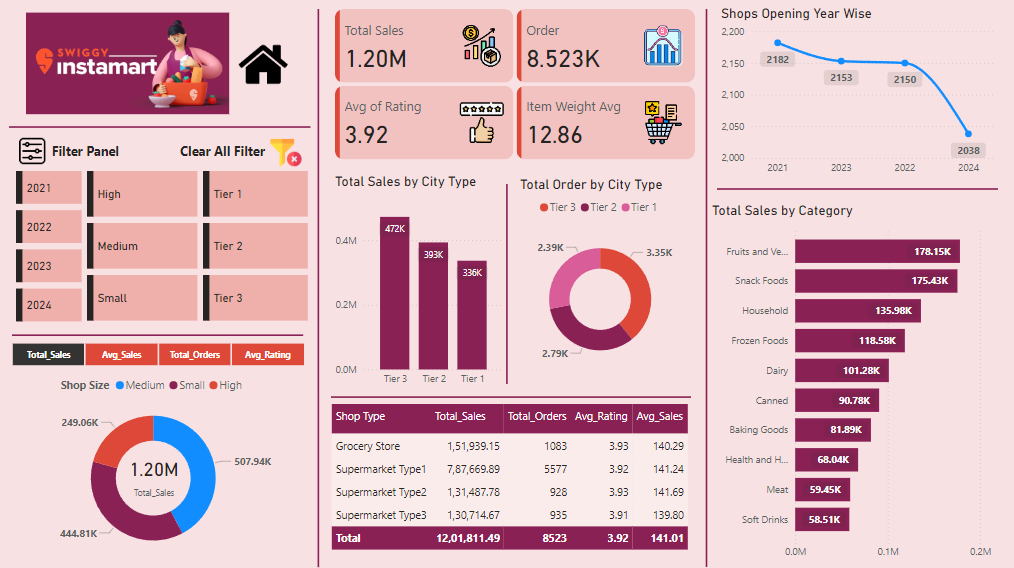

This screenshot's page, from the dashboard's own definition file:
{"tool":"powerbi","page":{"name":"INSTAMART DASHBOARD","canvas":[1280,720],"ordinal":0},"visuals":[{"type":"cardVisual","fields":{"Data":["Sum(Grocery Shop.Sales)","CountNonNull(Grocery Shop.Item Code)","Avg(Grocery Shop.Rating)","Avg(Grocery Shop.Item Weight)"]},"box":[418.6,7,460.5,198.8],"z":1000},{"type":"shape","box":[16.3,144.2,376.7,32.6],"z":3000},{"type":"clusteredColumnChart","title":"Total Sales by City Type","fields":{"Category":["Grocery Shop.Shop City Type"],"Y":["Sum(Grocery Shop.Sales)"]},"box":[418.6,217.4,220.9,275.6],"z":4000},{"type":"donutChart","title":"Sales by City Type","fields":{"Y":["Grocery Shop.Total_Sales"],"Category":["Grocery Shop.Shop Size"]},"box":[8.1,462.8,375.6,244.2],"z":5000},{"type":"advancedSlicerVisual","fields":{"Values":["Grocery Shop.Shop Size"]},"box":[114,215.1,138.4,188.4],"z":6000},{"type":"advancedSlicerVisual","fields":{"Values":["Grocery Shop.Shop Opening Year"]},"box":[24.4,215.1,82.6,188.4],"z":7000},{"type":"lineChart","title":"Shops Opening Year Wise","fields":{"Category":["Grocery Shop.Shop Opening Year"],"Y":["CountNonNull(Grocery Shop.Shop Opening Year)"]},"box":[901.1,7.8,351.1,221.1],"z":8000},{"type":"image","box":[297.5,46.2,73.8,71.2],"z":9000},{"type":"shape","box":[19.8,389.5,364,60.5],"z":10000},{"type":"slicer","fields":{"Values":["Metrics.Metrics"]},"box":[0,429.1,403.5,31.4],"z":11000},{"type":"cardVisual","fields":{"Data":["Grocery Shop.Total_Sales"]},"box":[124.4,557,145.3,82.6],"z":12000},{"type":"shape","box":[629.1,231.4,19.8,250],"z":13000},{"type":"shape","box":[418.6,482.6,450,30.2],"z":14000},{"type":"donutChart","title":"Total Order by City Type","fields":{"Y":["Grocery Shop.Total_Orders"],"Category":["Grocery Shop.Shop City Type"]},"box":[650,220.9,210.5,260.5],"z":15000},{"type":"clusteredBarChart","title":"Total Sales by Category","fields":{"Category":["Grocery Shop.Category"],"Y":["Sum(Grocery Shop.Sales)"]},"box":[889.5,253.5,382.6,455.8],"z":16000},{"type":"tableEx","fields":{"Values":["Grocery Shop.Shop Type","Grocery Shop.Total_Sales","Grocery Shop.Total_Orders","Grocery Shop.Avg_Rating","Grocery Shop.Avg_Sales"]},"box":[414,501.2,457,211.6],"z":17000},{"type":"advancedSlicerVisual","fields":{"Values":["Grocery Shop.Shop City Type"]},"box":[258.1,215.1,131.4,188.4],"z":18000},{"type":"textbox","box":[24.4,173.3,189.5,32.6],"z":19000},{"type":"image","box":[23.3,167.4,43,44.2],"z":20000},{"type":"textbox","box":[225.6,173.3,124.4,32.6],"z":21000},{"type":"image","box":[334.9,167.4,54.7,48.8],"z":22000},{"type":"shape","box":[901.2,221.2,351.2,32.5],"z":23000},{"type":"shape","box":[393,12.8,20.9,697.7],"z":24000},{"type":"shape","box":[877.5,12.5,21.2,697.5],"z":25000},{"type":"image","box":[8,16,296,128],"z":25001}]}

Visuals, with their boxes in screenshot pixels (x1, y1, x2, y2), scaled from the page's 1280x720 canvas onto the 1014x568 screenshot:
cardVisual - Sum(Grocery Shop.Sales) x CountNonNull(Grocery Shop.Item Code): (332, 6, 696, 162)
shape: (13, 114, 311, 139)
"Total Sales by City Type" clusteredColumnChart: (332, 172, 507, 389)
"Sales by City Type" donutChart: (6, 365, 304, 558)
advancedSlicerVisual - Grocery Shop.Shop Size: (90, 170, 200, 318)
advancedSlicerVisual - Grocery Shop.Shop Opening Year: (19, 170, 85, 318)
"Shops Opening Year Wise" lineChart: (714, 6, 992, 181)
image: (236, 36, 294, 93)
shape: (16, 307, 304, 355)
slicer - Metrics.Metrics: (0, 339, 320, 363)
cardVisual - Grocery Shop.Total_Sales: (99, 439, 214, 505)
shape: (498, 183, 514, 380)
shape: (332, 381, 688, 405)
"Total Order by City Type" donutChart: (515, 174, 682, 380)
"Total Sales by Category" clusteredBarChart: (705, 200, 1008, 560)
tableEx - Grocery Shop.Shop Type x Grocery Shop.Total_Sales: (328, 395, 690, 562)
advancedSlicerVisual - Grocery Shop.Shop City Type: (204, 170, 309, 318)
textbox: (19, 137, 169, 162)
image: (18, 132, 53, 167)
textbox: (179, 137, 277, 162)
image: (265, 132, 309, 171)
shape: (714, 175, 992, 200)
shape: (311, 10, 328, 561)
shape: (695, 10, 712, 560)
image: (6, 13, 241, 114)
